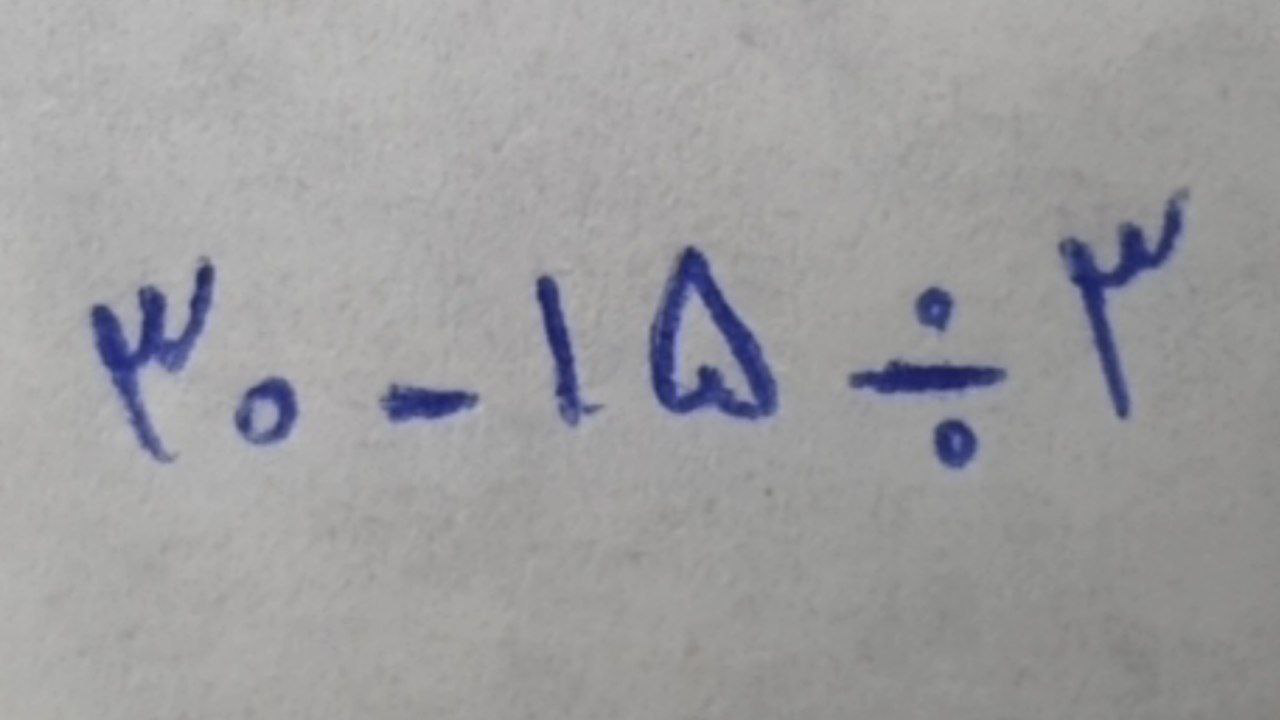character: (1059, 193, 1194, 420), (849, 287, 1007, 468), (90, 255, 215, 465), (647, 246, 779, 419), (535, 274, 590, 426), (234, 376, 298, 447), (379, 384, 481, 423)
